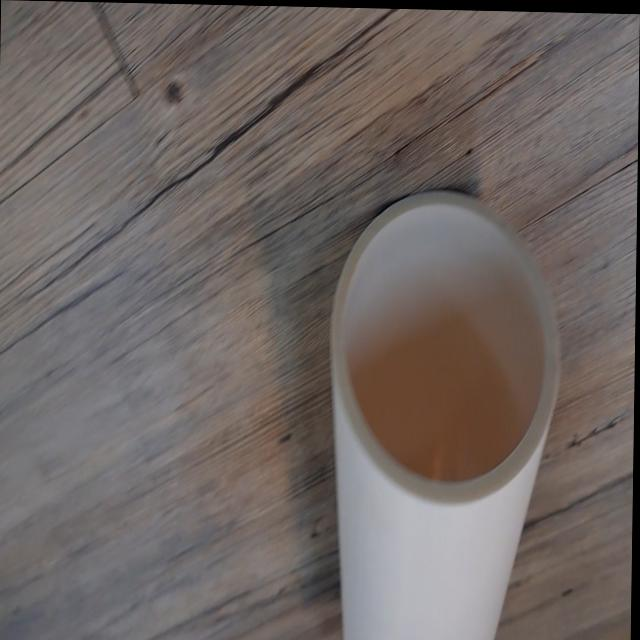CORAL: (305, 167, 570, 640)
